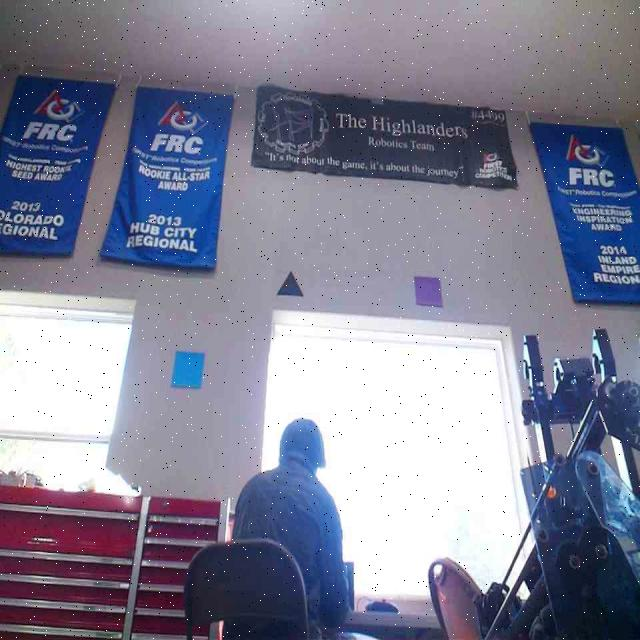square_blue: (171, 350, 206, 388)
square_purple: (412, 273, 443, 306)
triangle_black: (276, 270, 303, 296)
